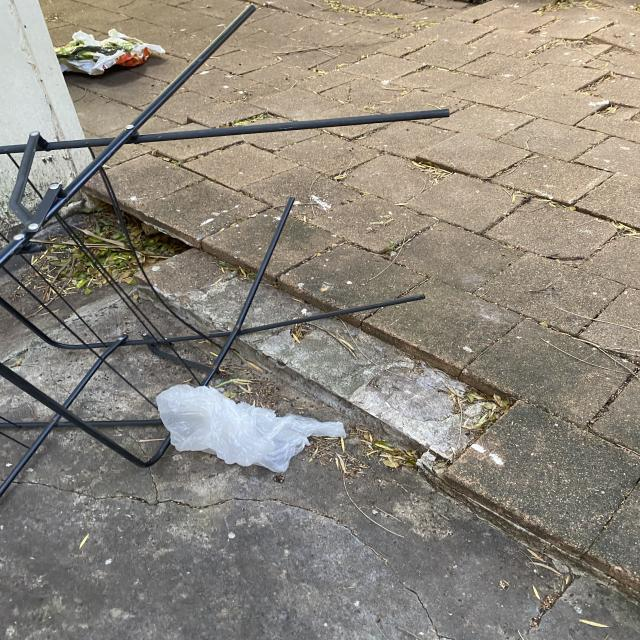bag: (156, 383, 348, 473)
